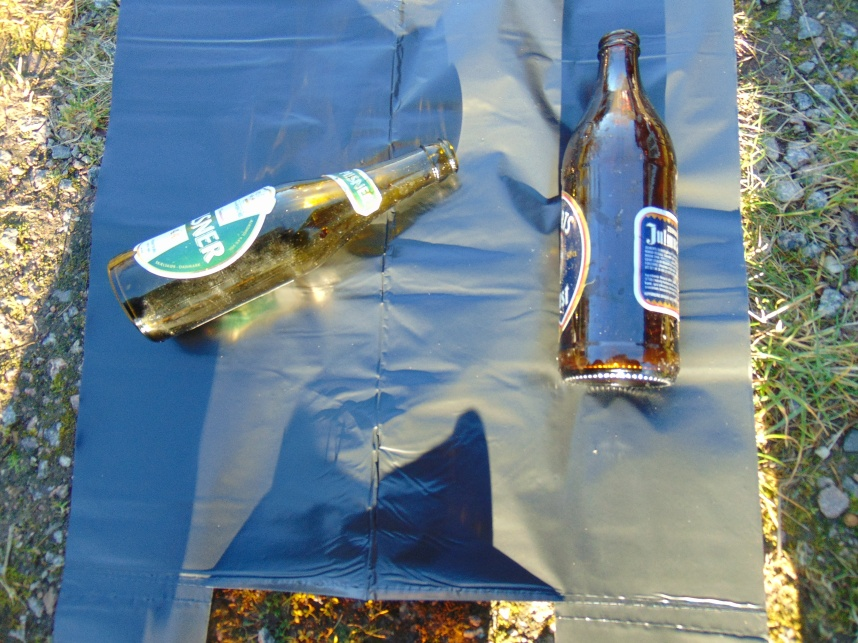glass_bottle: (109, 139, 460, 343), (557, 29, 681, 394)
